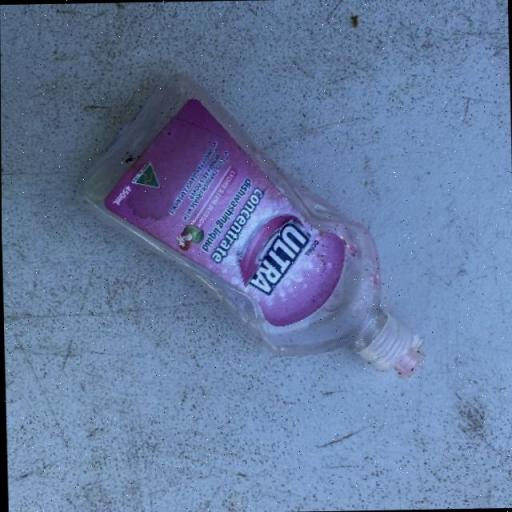plastic: (74, 66, 426, 384)
